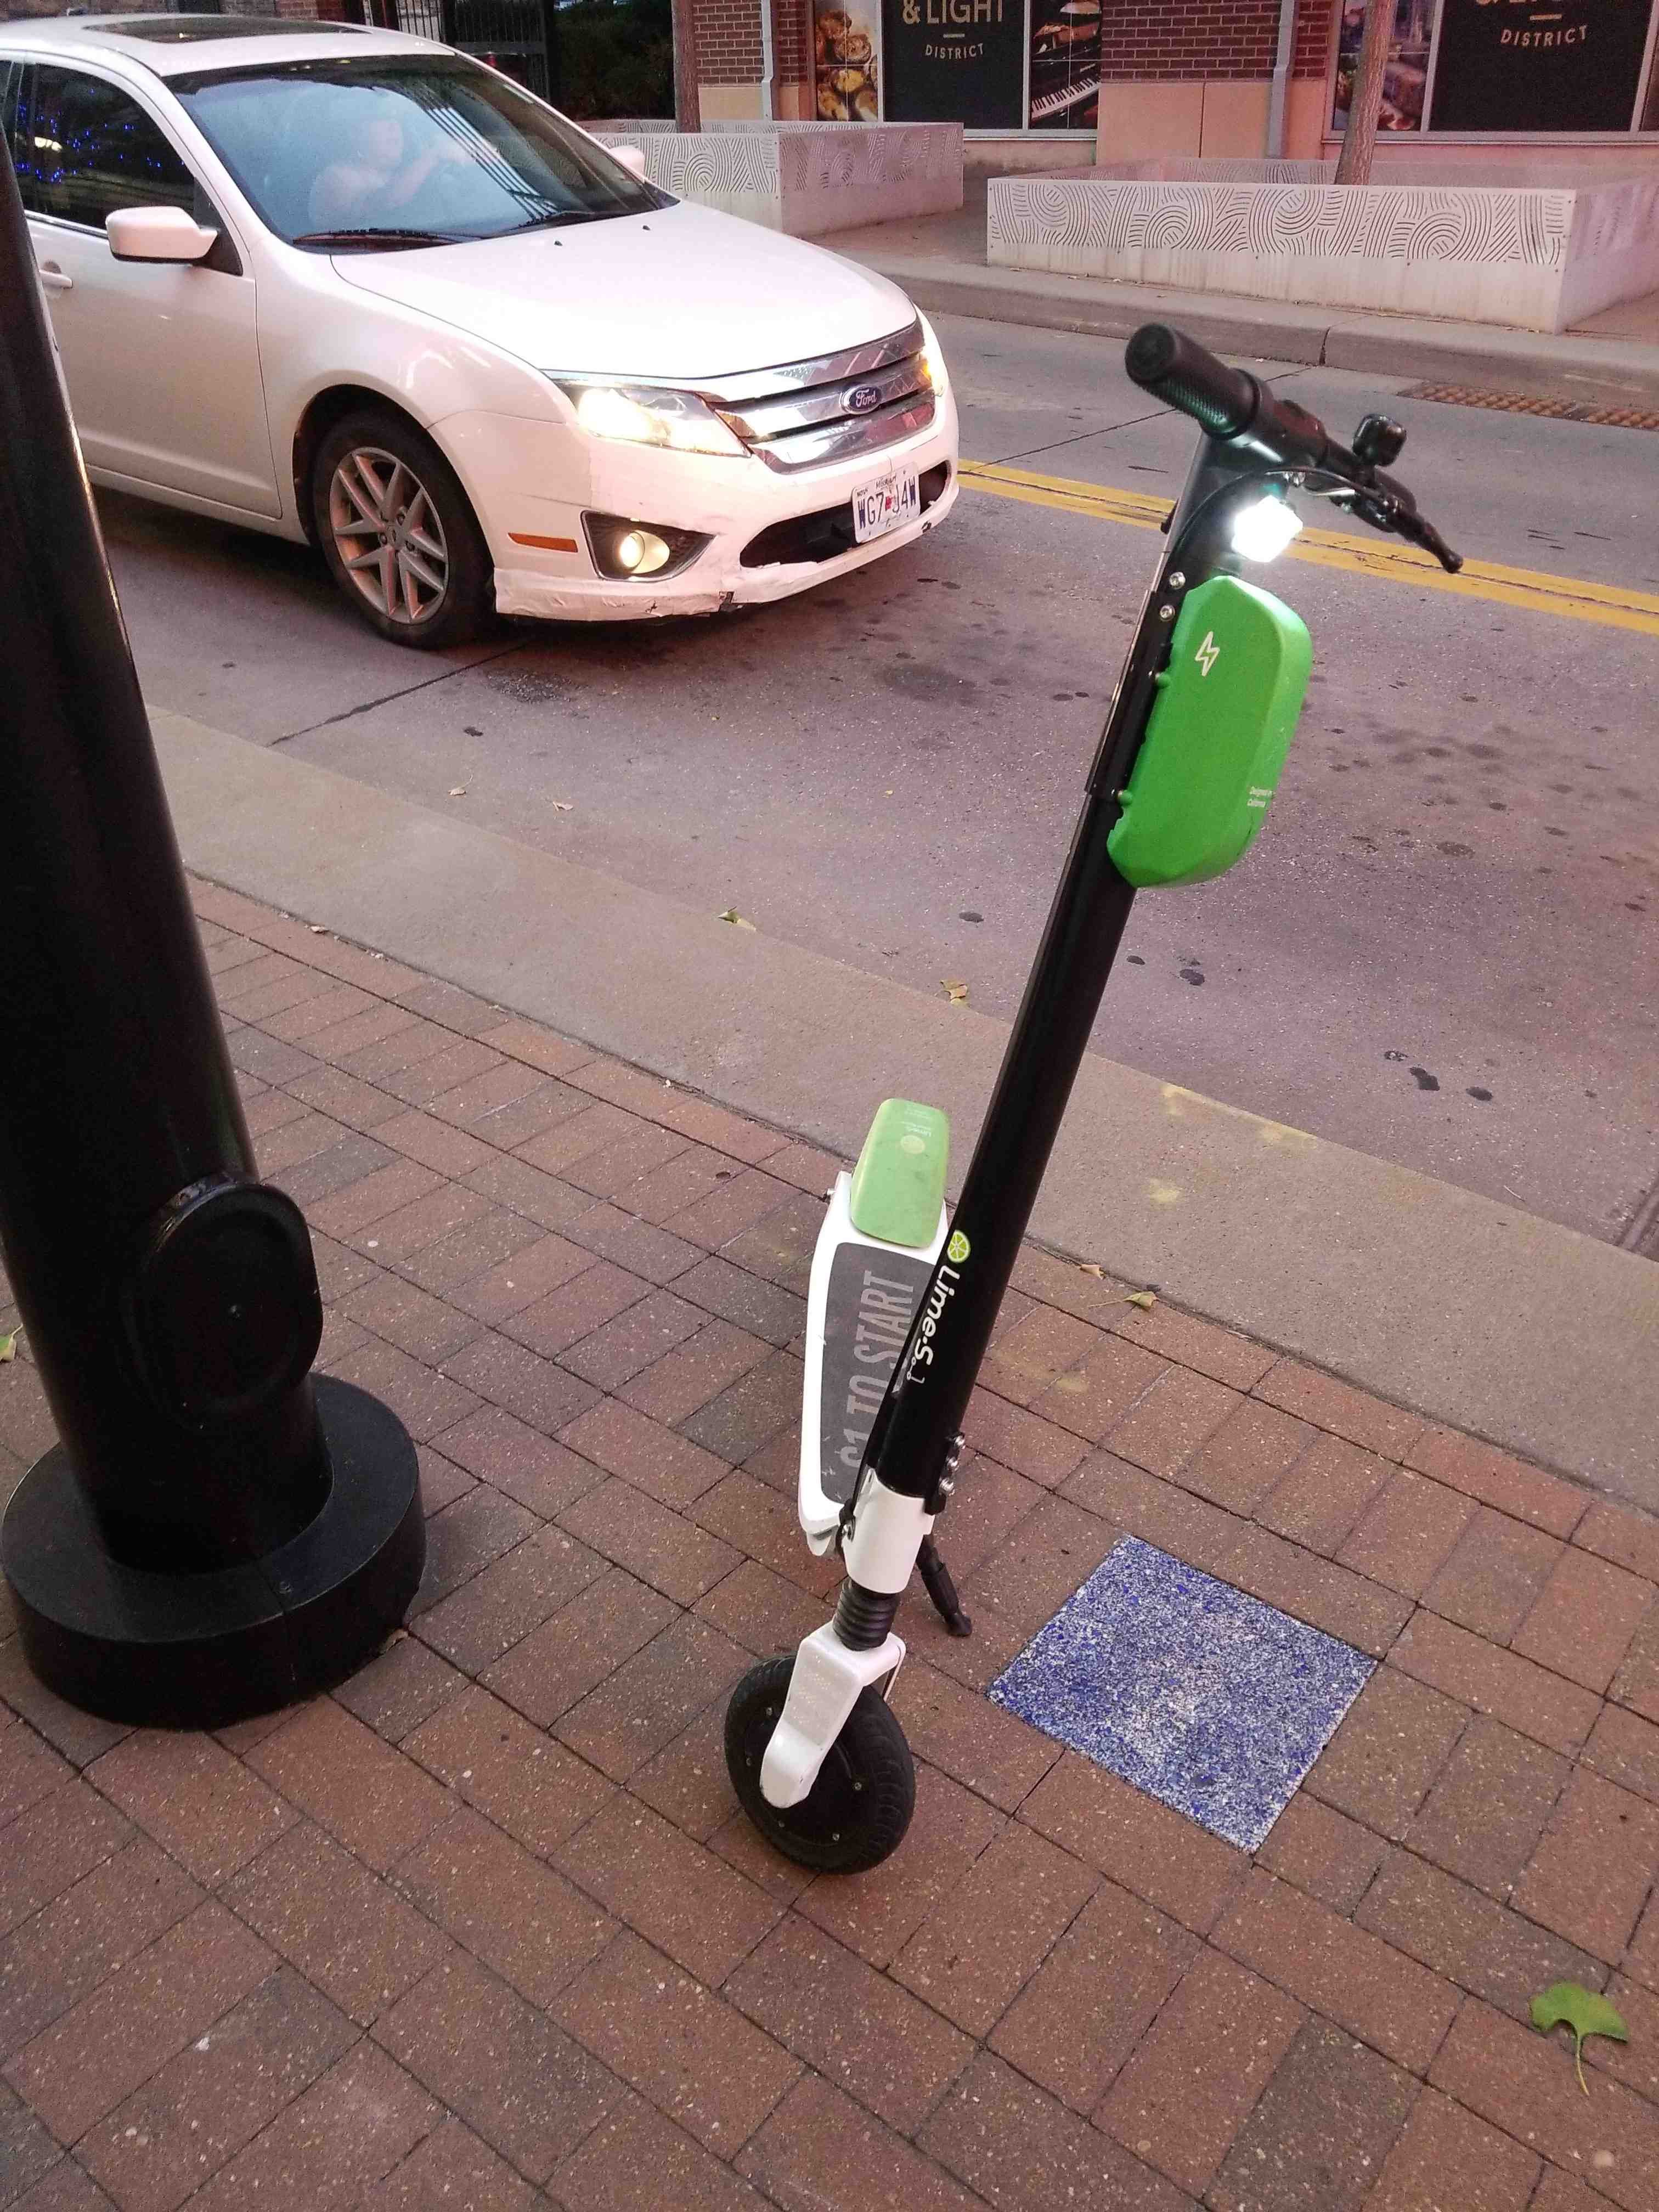scooter: (704, 287, 1464, 1937)
